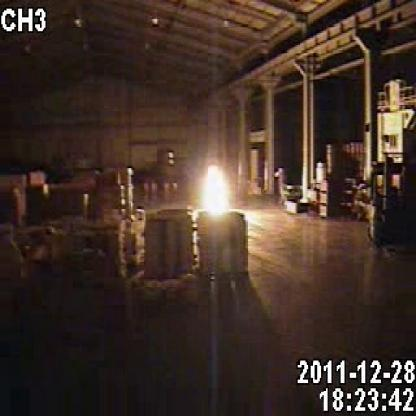fire: (185, 147, 243, 243)
